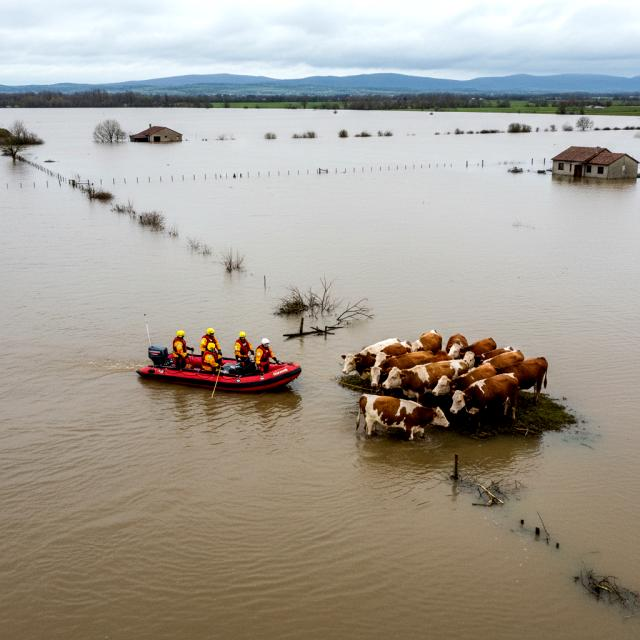cow: (354, 390, 454, 446), (448, 370, 528, 430), (381, 364, 470, 401), (493, 356, 549, 412), (362, 350, 436, 390), (429, 362, 498, 404), (340, 337, 402, 382), (456, 346, 519, 370), (366, 337, 414, 367), (476, 348, 526, 368), (408, 328, 444, 355), (458, 336, 498, 358), (442, 328, 466, 360), (418, 348, 455, 368)
rescuer: (199, 325, 223, 361), (172, 328, 192, 371), (201, 341, 224, 377), (255, 336, 275, 373), (235, 332, 254, 367)
